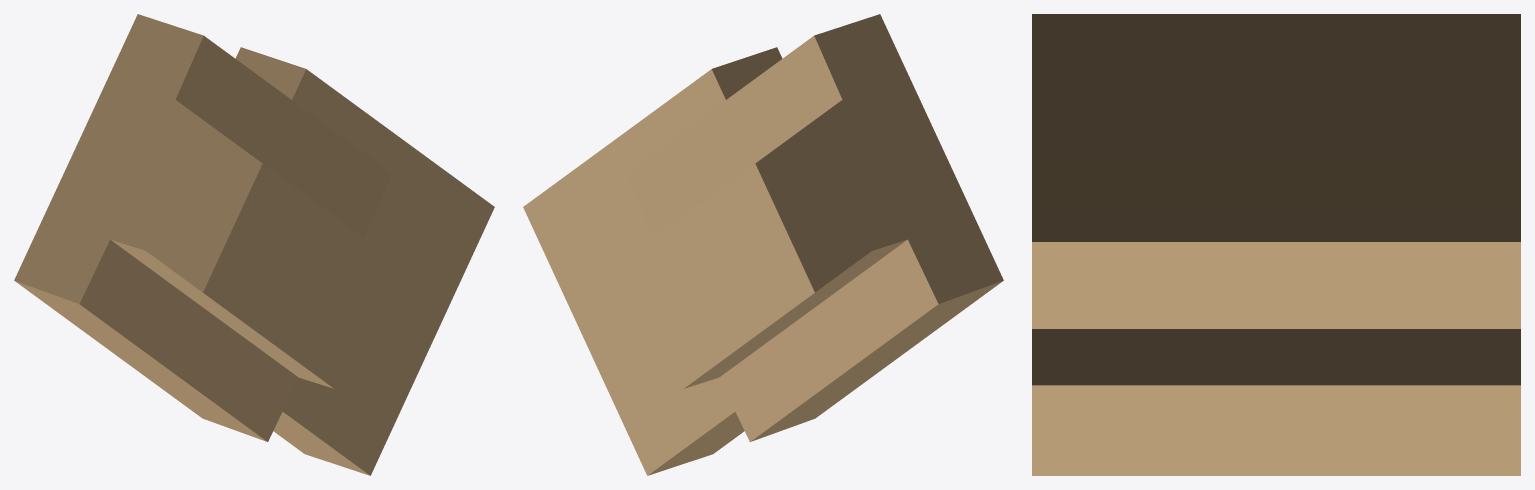
3 views of the same model, side by side, from view 1: azimuth 30°, elevation 25°; view 2: azimuth 150°, elevation 25°; view 3: azimuth 270°, elevation 25° (orthographic). The views are drawn at different scales.
Parts seen in each view (by area): view 1: 0_1_0_0_1_0_0_1_0; view 2: 0_1_0_0_1_0_0_1_0; view 3: 0_1_0_0_1_0_0_1_0.
Part boxes in pixels (x1=…): 0_1_0_0_1_0_0_1_0: x1=14, y1=14, x2=494, y2=475; 0_1_0_0_1_0_0_1_0: x1=523, y1=14, x2=1003, y2=475; 0_1_0_0_1_0_0_1_0: x1=1032, y1=14, x2=1520, y2=475.
Size of the model in its own units: 24.16 by 26.44 by 27.
